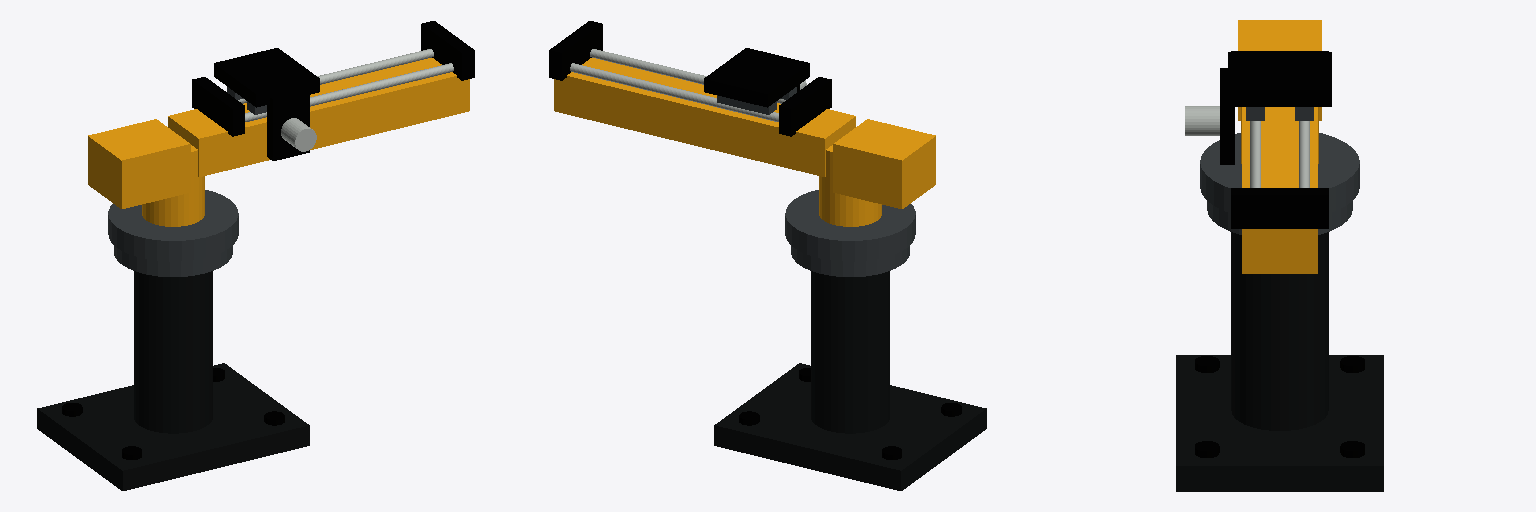
The robot description file, URDF, robot "shop_radial_arm_module":
<robot name="shop_radial_arm_module">
  <link name="pedestal">
    <visual name="base_plate">
      <origin xyz="0 0 0.02" rpy="0 0 0" />
      <geometry>
        <box size="0.38 0.3 0.04" />
        </geometry>
      <material name="dark_cast_iron">
        <color rgba="0.08 0.09 0.09 1" />
        </material>
      </visual>
    <visual name="short_column">
      <origin xyz="0 0 0.2" rpy="0 0 0" />
      <geometry>
        <cylinder radius="0.07" length="0.324" />
        </geometry>
      <material name="dark_cast_iron">
        <color rgba="0.08 0.09 0.09 1" />
        </material>
      </visual>
    <visual name="lower_bearing">
      <origin xyz="0 0 0.3775" rpy="0 0 0" />
      <geometry>
        <cylinder radius="0.105" length="0.035" />
        </geometry>
      <material name="bearing_gray">
        <color rgba="0.26 0.28 0.29 1" />
        </material>
      </visual>
    <visual name="anchor_bolt_0">
      <origin xyz="-0.145 -0.105 0.045" rpy="0 0 0" />
      <geometry>
        <cylinder radius="0.018" length="0.012" />
        </geometry>
      <material name="blackened_hardware">
        <color rgba="0.015 0.015 0.014 1" />
        </material>
      </visual>
    <visual name="anchor_bolt_1">
      <origin xyz="-0.145 0.105 0.045" rpy="0 0 0" />
      <geometry>
        <cylinder radius="0.018" length="0.012" />
        </geometry>
      <material name="blackened_hardware">
        <color rgba="0.015 0.015 0.014 1" />
        </material>
      </visual>
    <visual name="anchor_bolt_2">
      <origin xyz="0.145 -0.105 0.045" rpy="0 0 0" />
      <geometry>
        <cylinder radius="0.018" length="0.012" />
        </geometry>
      <material name="blackened_hardware">
        <color rgba="0.015 0.015 0.014 1" />
        </material>
      </visual>
    <visual name="anchor_bolt_3">
      <origin xyz="0.145 0.105 0.045" rpy="0 0 0" />
      <geometry>
        <cylinder radius="0.018" length="0.012" />
        </geometry>
      <material name="blackened_hardware">
        <color rgba="0.015 0.015 0.014 1" />
        </material>
      </visual>
    <collision name="base_plate">
      <origin xyz="0 0 0.02" rpy="0 0 0" />
      <geometry>
        <box size="0.38 0.3 0.04" />
        </geometry>
      </collision>
    <collision name="short_column">
      <origin xyz="0 0 0.2" rpy="0 0 0" />
      <geometry>
        <cylinder radius="0.07" length="0.324" />
        </geometry>
      </collision>
    <collision name="lower_bearing">
      <origin xyz="0 0 0.3775" rpy="0 0 0" />
      <geometry>
        <cylinder radius="0.105" length="0.035" />
        </geometry>
      </collision>
    <collision name="anchor_bolt_0">
      <origin xyz="-0.145 -0.105 0.045" rpy="0 0 0" />
      <geometry>
        <cylinder radius="0.018" length="0.012" />
        </geometry>
      </collision>
    <collision name="anchor_bolt_1">
      <origin xyz="-0.145 0.105 0.045" rpy="0 0 0" />
      <geometry>
        <cylinder radius="0.018" length="0.012" />
        </geometry>
      </collision>
    <collision name="anchor_bolt_2">
      <origin xyz="0.145 -0.105 0.045" rpy="0 0 0" />
      <geometry>
        <cylinder radius="0.018" length="0.012" />
        </geometry>
      </collision>
    <collision name="anchor_bolt_3">
      <origin xyz="0.145 0.105 0.045" rpy="0 0 0" />
      <geometry>
        <cylinder radius="0.018" length="0.012" />
        </geometry>
      </collision>
    </link>
  <link name="arm">
    <visual name="rotary_plate">
      <origin xyz="0 0 0.02" rpy="0 0 0" />
      <geometry>
        <cylinder radius="0.115" length="0.04" />
        </geometry>
      <material name="bearing_gray">
        <color rgba="0.26 0.28 0.29 1" />
        </material>
      </visual>
    <visual name="shoulder_hub">
      <origin xyz="0 0 0.1" rpy="0 0 0" />
      <geometry>
        <cylinder radius="0.056" length="0.16" />
        </geometry>
      <material name="machine_yellow">
        <color rgba="0.95 0.66 0.1 1" />
        </material>
      </visual>
    <visual name="rear_counterweight">
      <origin xyz="-0.07 0 0.152" rpy="0 0 0" />
      <geometry>
        <box size="0.14 0.12 0.095" />
        </geometry>
      <material name="machine_yellow">
        <color rgba="0.95 0.66 0.1 1" />
        </material>
      </visual>
    <visual name="main_beam">
      <origin xyz="0.295 0 0.165" rpy="0 0 0" />
      <geometry>
        <box size="0.55 0.11 0.075" />
        </geometry>
      <material name="machine_yellow">
        <color rgba="0.95 0.66 0.1 1" />
        </material>
      </visual>
    <visual name="guide_rail_0">
      <origin xyz="0.325 -0.035 0.2105" rpy="0 1.5708 0" />
      <geometry>
        <cylinder radius="0.008" length="0.45" />
        </geometry>
      <material name="polished_guide_steel">
        <color rgba="0.72 0.74 0.72 1" />
        </material>
      </visual>
    <visual name="guide_rail_1">
      <origin xyz="0.325 0.035 0.2105" rpy="0 1.5708 0" />
      <geometry>
        <cylinder radius="0.008" length="0.45" />
        </geometry>
      <material name="polished_guide_steel">
        <color rgba="0.72 0.74 0.72 1" />
        </material>
      </visual>
    <visual name="inner_stop">
      <origin xyz="0.092 0 0.226" rpy="0 0 0" />
      <geometry>
        <box size="0.026 0.142 0.054" />
        </geometry>
      <material name="blackened_hardware">
        <color rgba="0.015 0.015 0.014 1" />
        </material>
      </visual>
    <visual name="outer_stop">
      <origin xyz="0.558 0 0.226" rpy="0 0 0" />
      <geometry>
        <box size="0.026 0.142 0.054" />
        </geometry>
      <material name="blackened_hardware">
        <color rgba="0.015 0.015 0.014 1" />
        </material>
      </visual>
    <collision name="rotary_plate">
      <origin xyz="0 0 0.02" rpy="0 0 0" />
      <geometry>
        <cylinder radius="0.115" length="0.04" />
        </geometry>
      </collision>
    <collision name="shoulder_hub">
      <origin xyz="0 0 0.1" rpy="0 0 0" />
      <geometry>
        <cylinder radius="0.056" length="0.16" />
        </geometry>
      </collision>
    <collision name="rear_counterweight">
      <origin xyz="-0.07 0 0.152" rpy="0 0 0" />
      <geometry>
        <box size="0.14 0.12 0.095" />
        </geometry>
      </collision>
    <collision name="main_beam">
      <origin xyz="0.295 0 0.165" rpy="0 0 0" />
      <geometry>
        <box size="0.55 0.11 0.075" />
        </geometry>
      </collision>
    <collision name="guide_rail_0">
      <origin xyz="0.325 -0.035 0.2105" rpy="0 1.5708 0" />
      <geometry>
        <cylinder radius="0.008" length="0.45" />
        </geometry>
      </collision>
    <collision name="guide_rail_1">
      <origin xyz="0.325 0.035 0.2105" rpy="0 1.5708 0" />
      <geometry>
        <cylinder radius="0.008" length="0.45" />
        </geometry>
      </collision>
    <collision name="inner_stop">
      <origin xyz="0.092 0 0.226" rpy="0 0 0" />
      <geometry>
        <box size="0.026 0.142 0.054" />
        </geometry>
      </collision>
    <collision name="outer_stop">
      <origin xyz="0.558 0 0.226" rpy="0 0 0" />
      <geometry>
        <box size="0.026 0.142 0.054" />
        </geometry>
      </collision>
    </link>
  <link name="carriage">
    <visual name="linear_bearing_0">
      <origin xyz="0 -0.035 0.014" rpy="0 0 0" />
      <geometry>
        <box size="0.105 0.028 0.028" />
        </geometry>
      <material name="bearing_gray">
        <color rgba="0.26 0.28 0.29 1" />
        </material>
      </visual>
    <visual name="linear_bearing_1">
      <origin xyz="0 0.035 0.014" rpy="0 0 0" />
      <geometry>
        <box size="0.105 0.028 0.028" />
        </geometry>
      <material name="bearing_gray">
        <color rgba="0.26 0.28 0.29 1" />
        </material>
      </visual>
    <visual name="saddle_plate">
      <origin xyz="0 0 0.041" rpy="0 0 0" />
      <geometry>
        <box size="0.13 0.15 0.026" />
        </geometry>
      <material name="blackened_hardware">
        <color rgba="0.015 0.015 0.014 1" />
        </material>
      </visual>
    <visual name="tool_side_plate">
      <origin xyz="0 -0.076 -0.018" rpy="0 0 0" />
      <geometry>
        <box size="0.075 0.022 0.12" />
        </geometry>
      <material name="blackened_hardware">
        <color rgba="0.015 0.015 0.014 1" />
        </material>
      </visual>
    <visual name="tool_socket">
      <origin xyz="0 -0.105 -0.025" rpy="1.5708 0 0" />
      <geometry>
        <cylinder radius="0.022" length="0.065" />
        </geometry>
      <material name="polished_guide_steel">
        <color rgba="0.72 0.74 0.72 1" />
        </material>
      </visual>
    <collision name="linear_bearing_0">
      <origin xyz="0 -0.035 0.014" rpy="0 0 0" />
      <geometry>
        <box size="0.105 0.028 0.028" />
        </geometry>
      </collision>
    <collision name="linear_bearing_1">
      <origin xyz="0 0.035 0.014" rpy="0 0 0" />
      <geometry>
        <box size="0.105 0.028 0.028" />
        </geometry>
      </collision>
    <collision name="saddle_plate">
      <origin xyz="0 0 0.041" rpy="0 0 0" />
      <geometry>
        <box size="0.13 0.15 0.026" />
        </geometry>
      </collision>
    <collision name="tool_side_plate">
      <origin xyz="0 -0.076 -0.018" rpy="0 0 0" />
      <geometry>
        <box size="0.075 0.022 0.12" />
        </geometry>
      </collision>
    <collision name="tool_socket">
      <origin xyz="0 -0.105 -0.025" rpy="1.5708 0 0" />
      <geometry>
        <cylinder radius="0.022" length="0.065" />
        </geometry>
      </collision>
    </link>
  <joint name="pedestal_to_arm" type="revolute">
    <origin xyz="0 0 0.395" rpy="0 0 0" />
    <parent link="pedestal" />
    <child link="arm" />
    <axis xyz="0 0 1" />
    <limit effort="120" velocity="0.9" lower="-1.45" upper="1.45" />
    </joint>
  <joint name="arm_to_carriage" type="prismatic">
    <origin xyz="0.19 0 0.2185" rpy="0 0 0" />
    <parent link="arm" />
    <child link="carriage" />
    <axis xyz="1 0 0" />
    <limit effort="80" velocity="0.35" lower="0" upper="0.15" />
    </joint>
  </robot>

--- What the picture shows (computed from the rendered views, not written in the file) ---
Views: 3 orthographic renders of the robot side by side, from view 1: azimuth 30°, elevation 25°; view 2: azimuth 150°, elevation 25°; view 3: azimuth 270°, elevation 25°.
Robot: shop_radial_arm_module — 3 links, 2 joints (1 revolute, 1 prismatic); root link pedestal; default pose: all joints at 0.
Links seen in each view (by area): view 1: arm, pedestal, carriage; view 2: arm, pedestal, carriage; view 3: pedestal, arm, carriage.
Boxes of the visible links, x1,y1,x2,y2 form: arm: (88, 21, 474, 261); pedestal: (37, 246, 309, 490); carriage: (214, 48, 319, 160); arm: (549, 21, 935, 261); pedestal: (714, 246, 986, 490); carriage: (704, 48, 809, 114); pedestal: (1176, 201, 1383, 491); arm: (1200, 20, 1359, 273); carriage: (1185, 52, 1331, 164).
Bounding box of the posed robot: 0.761 × 0.3 × 0.6675 m (x, y, z).
Geometry: primitives only (box / cylinder / sphere), no mesh files.
